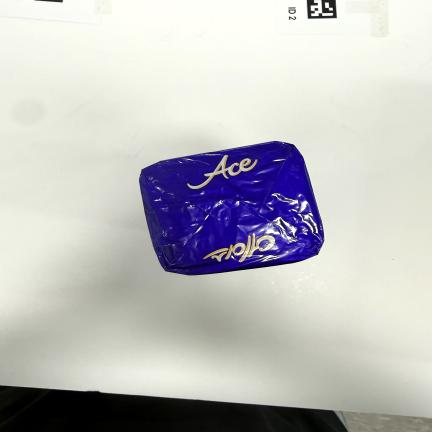cracker_ace: (139, 141, 324, 275)
